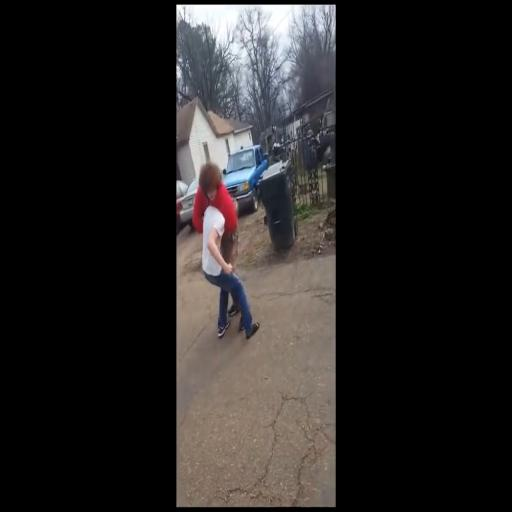violencia: (188, 146, 262, 348)
